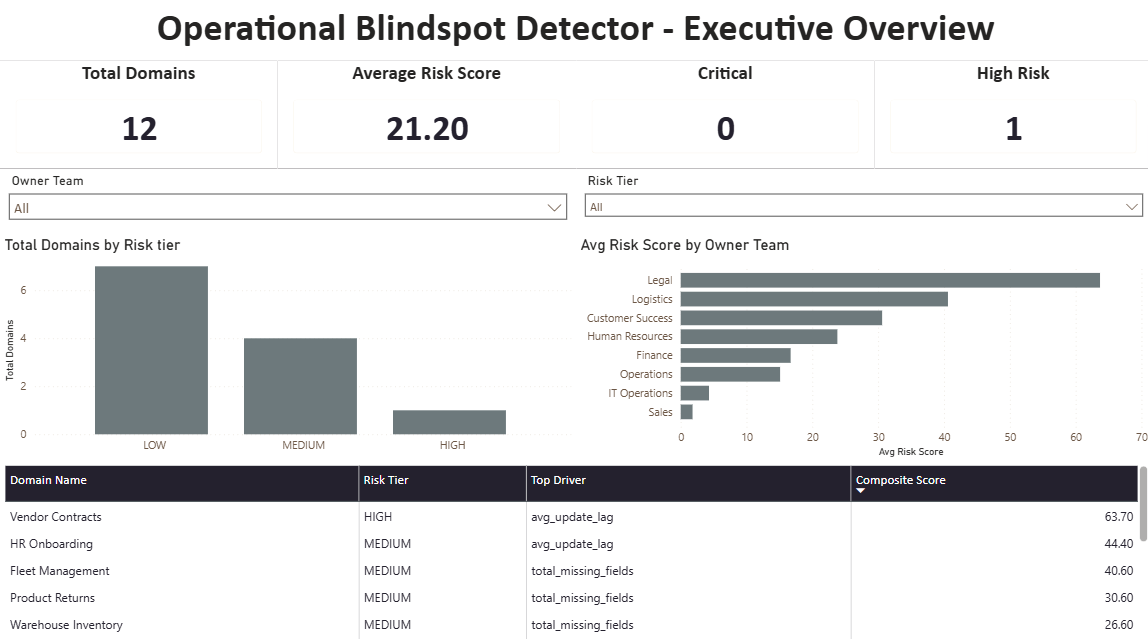

The page's visual inventory and layout, read from the dashboard file:
{"tool":"powerbi","page":{"name":"Executive Overview","canvas":[1280,720],"ordinal":0},"visuals":[{"type":"cardVisual","title":"Total Domains","fields":{"Data":["risk_scores.Total Domains"]},"box":[0,68.3,308.3,120],"z":0},{"type":"cardVisual","title":"Average Risk Score","fields":{"Data":["risk_scores.Avg Risk Score"]},"box":[308.3,68.3,331.7,120],"z":1000},{"type":"cardVisual","title":"Critical ","fields":{"Data":["risk_scores.Critical Domains"]},"box":[640,68.3,331.7,120],"z":2000},{"type":"cardVisual","title":"High Risk","fields":{"Data":["risk_scores.High Risk Domains"]},"box":[971.7,68.3,308.3,120],"z":3000},{"type":"clusteredColumnChart","fields":{"Category":["risk_scores.risk_tier"],"Y":["risk_scores.Total Domains"]},"box":[0,263.3,640,250],"z":4000},{"type":"tableEx","fields":{"Values":["domains.domain_name","risk_scores.risk_tier","risk_scores.top_driver","risk_scores.composite_score"]},"box":[0,514,1280,206],"z":5000},{"type":"clusteredBarChart","fields":{"Category":["domains.owner_team"],"Y":["risk_scores.Avg Risk Score"]},"box":[640,263.3,640,250],"z":6000},{"type":"slicer","fields":{"Values":["domains.owner_team"]},"box":[0,188.3,640,75],"z":7000},{"type":"slicer","fields":{"Values":["risk_scores.risk_tier"]},"box":[640,188.3,640,75],"z":8000},{"type":"textbox","box":[0,0,1280,68.3],"z":9000}]}

Visuals, with their boxes in screenshot pixels (x1, y1, x2, y2), scaled from the page's 1280x720 canvas onto the 1148x639 screenshot:
"Total Domains" cardVisual: 0,61,277,167
"Average Risk Score" cardVisual: 277,61,574,167
"Critical " cardVisual: 574,61,871,167
"High Risk" cardVisual: 871,61,1147,167
clusteredColumnChart - risk_scores.risk_tier x risk_scores.Total Domains: 0,234,574,456
tableEx - domains.domain_name x risk_scores.risk_tier: 0,456,1147,638
clusteredBarChart - domains.owner_team x risk_scores.Avg Risk Score: 574,234,1147,456
slicer - domains.owner_team: 0,167,574,234
slicer - risk_scores.risk_tier: 574,167,1147,234
textbox: 0,0,1147,61
